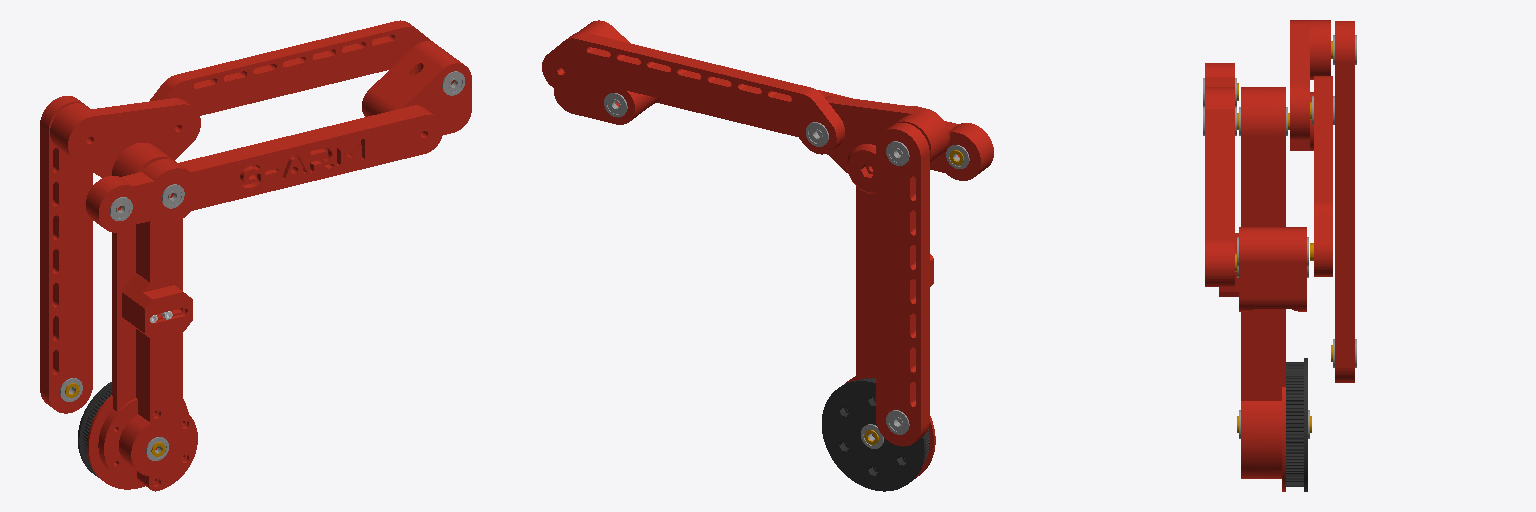
The robot description file, URDF, robot "g_arm":
<?xml version="1.0" ?>
<!-- =================================================================================== -->
<!-- |    This document was autogenerated by xacro from robot.urdf.xacro               | -->
<!-- |    EDITING THIS FILE BY HAND IS NOT RECOMMENDED                                 | -->
<!-- =================================================================================== -->
<robot name="g_arm">
  <!-- Definition of the base link -->
  <link name="base_link">
    <visual>
      <origin rpy="0.0 0.0 0.0" xyz="0.0 0.0 0.0"/>
      <geometry>
        <mesh filename="package://g_arm_description/meshes/base.dae"/>
      </geometry>
    </visual>
    <collision>
      <origin rpy="0.0 0.0 0.0" xyz="0.0 0.0 0.035"/>
      <geometry>
        <cylinder length="0.07" radius="0.07"/>
      </geometry>
      <material name="blue">
        <color rgba="0.0 0.0 1.0 1.0"/>
      </material>
    </collision>
  </link>
  <!-- Definition of the motors base link -->
  <link name="motors_link">
    <visual>
      <origin rpy="0.0 0.0 0" xyz="0.0 0.0 0.0"/>
      <geometry>
        <mesh filename="package://g_arm_description/meshes/motors.dae"/>
      </geometry>
    </visual>
    <collision>
      <origin rpy="0.0 0.0 0.0" xyz="0 0 0"/>
      <geometry>
        <mesh filename="package://g_arm_description/meshes/motors.stl" scale="0.001 0.001 0.001"/>
      </geometry>
      <material name="blue">
        <color rgba="0.0 0.0 1.0 1.0"/>
      </material>
    </collision>
  </link>
  <!-- Definition of the arm link 1 -->
  <link name="link1">
    <visual>
      <origin rpy="0.0 0.0 0.0" xyz="0.0 0.0 0.0"/>
      <geometry>
        <mesh filename="package://g_arm_description/meshes/link1.dae"/>
      </geometry>
    </visual>
    <collision>
      <origin rpy="0.0 0.0 0.0" xyz="0.0 0.0 0.0"/>
      <geometry>
        <mesh filename="package://g_arm_description/meshes/link1.stl" scale="0.001 0.001 0.001"/>
      </geometry>
      <material name="blue">
        <color rgba="0.0 0.0 1.0 1.0"/>
      </material>
    </collision>
  </link>
  <link name="link_j3_lever">
    <visual>
      <origin rpy="0.0 0.0 0.0" xyz="0.0 0.0 0.0"/>
      <geometry>
        <mesh filename="package://g_arm_description/meshes/link_j3_lever.dae"/>
      </geometry>
    </visual>
    <collision>
      <origin rpy="0.0 0.0 0.0" xyz="0.0 0.0 0.0"/>
      <geometry>
        <mesh filename="package://g_arm_description/meshes/link_j3_lever.stl" scale="0.001 0.001 0.001"/>
      </geometry>
      <material name="blue">
        <color rgba="0.0 0.0 1.0 1.0"/>
      </material>
    </collision>
  </link>
  <link name="link1_to_link2_intermediate">

  </link>
  <!-- Definition of the arm link 2 -->
  <link name="link2">
    <visual>
      <origin rpy="0.0 0.0 0.0" xyz="0.0 0.0 0.0"/>
      <geometry>
        <mesh filename="package://g_arm_description/meshes/link2.dae"/>
      </geometry>
    </visual>
    <collision>
      <origin rpy="0.0 0.0 0.0" xyz="0.0 0.0 0.0"/>
      <geometry>
        <mesh filename="package://g_arm_description/meshes/link2.stl" scale="0.001 0.001 0.001"/>
      </geometry>
      <material name="blue">
        <color rgba="0.0 0.0 1.0 1.0"/>
      </material>
    </collision>
  </link>
  <!-- Definition of the arm end effector -->
  <link name="end_effector">
    <visual>
      <origin rpy="0.0 0.0 0.0" xyz="0.0 0.0 0.0"/>
      <geometry>
        <mesh filename="package://g_arm_description/meshes/end.dae"/>
      </geometry>
    </visual>
    <collision>
      <origin rpy="0.0 0.0 0.0" xyz="0.0 0.0 0.0"/>
      <geometry>
        <mesh filename="package://g_arm_description/meshes/end.stl" scale="0.001 0.001 0.001"/>
      </geometry>
      <material name="blue">
        <color rgba="0.0 0.0 1.0 1.0"/>
      </material>
    </collision>
  </link>
  <joint name="joint1" type="revolute">
    <origin rpy="0.0 0.0 0.0" xyz="0.0 0.0 0.076"/>
    <parent link="base_link"/>
    <child link="motors_link"/>
    <axis xyz="0.0 0.0 1.0"/>
    <limit effort="200.0" lower="-1.5707" upper="1.5707" velocity="200.0"/>
  </joint>
  <joint name="joint2" type="revolute">
    <origin rpy="1.5708 0 0" xyz="0.035 0.0331 0.055"/>
    <parent link="motors_link"/>
    <child link="link1"/>
    <axis xyz="0.0 0.0 1.0"/>
    <limit effort="200.0" lower="-1.5707" upper="1.5707" velocity="200.0"/>
  </joint>
  <joint name="joint3" type="revolute">
    <origin rpy="1.5708 0.0 0.0" xyz="0.035 -0.0341 0.055"/>
    <parent link="motors_link"/>
    <child link="link_j3_lever"/>
    <axis xyz="0.0 0.0 1.0"/>
    <limit effort="200.0" lower="-1.5707" upper="0.1" velocity="200.0"/>
  </joint>
  <joint name="joint_link1_link2_intermediate" type="revolute">
    <origin rpy="0.0 0.0 1.5708" xyz="0.0 0.17 0.0362"/>
    <parent link="link1"/>
    <child link="link1_to_link2_intermediate"/>
    <axis xyz="0.0 0.0 1.0"/>
    <limit effort="200.0" lower="-1.5707" upper="1.5707" velocity="200.0"/>
    <mimic joint="joint3" multiplier="1.0"/>
  </joint>
  <joint name="joint_link1_link2" type="revolute">
    <origin rpy="0 0 0.0" xyz="0.0 0.0 0.0"/>
    <parent link="link1_to_link2_intermediate"/>
    <child link="link2"/>
    <axis xyz="0.0 0.0 1.0"/>
    <limit effort="200.0" lower="-1.5707" upper="1.5707" velocity="200.0"/>
    <mimic joint="joint2" multiplier="-1.0"/>
  </joint>
  <joint name="passive_joint4_mimic" type="revolute">
    <origin rpy="0.0 0.0 -1.5708" xyz="0.0 -0.17 0.0"/>
    <parent link="link2"/>
    <child link="end_effector"/>
    <axis xyz="0.0 0.0 1.0"/>
    <limit effort="200.0" lower="-1.5707" upper="1.5707" velocity="200.0"/>
    <mimic joint="joint3" multiplier="-1.0"/>
  </joint>
  <!--Rest of the palalegrams: This is not neccesary for the IK but its important for appearance and collision avoidance-->
  <link name="link_j3_lever_to_rod_intermediate">

  </link>
  <link name="link_j3_rod">
    <visual>
      <origin rpy="0.0 0.0 0.0" xyz="0.0 0.0 0.0"/>
      <geometry>
        <mesh filename="package://g_arm_description/meshes/link_j3_rod.dae"/>
      </geometry>
    </visual>
    <collision>
      <origin rpy="0.0 0.0 0.0" xyz="0.0 0.0 0.0"/>
      <geometry>
        <mesh filename="package://g_arm_description/meshes/link_j3_rod.stl" scale="0.001 0.001 0.001"/>
      </geometry>
      <material name="blue">
        <color rgba="0.0 0.0 1.0 1.0"/>
      </material>
    </collision>
  </link>
  <joint name="passive_joint_j3_lever_to_rod_intermediate" type="revolute">
    <origin rpy="0.0 0.0 0.0" xyz="-0.035 0.0 -0.030"/>
    <parent link="link_j3_lever"/>
    <child link="link_j3_lever_to_rod_intermediate"/>
    <axis xyz="0.0 0.0 1.0"/>
    <limit effort="200.0" lower="-1.5707" upper="1.5707" velocity="200.0"/>
    <mimic joint="joint2" multiplier="1.0"/>
  </joint>
  <joint name="passive_joint_j3_lever_to_rod" type="revolute">
    <origin rpy="0.0 0.0 0.0" xyz="0.0 0.0 0.0"/>
    <parent link="link_j3_lever_to_rod_intermediate"/>
    <child link="link_j3_rod"/>
    <axis xyz="0.0 0.0 1.0"/>
    <limit effort="200.0" lower="-1.5707" upper="1.5707" velocity="200.0"/>
    <mimic joint="joint3" multiplier="-1.0"/>
  </joint>
  <link name="elbow_link">
    <visual>
      <origin rpy="0.0 0.0 0.0" xyz="0.0 0.0 0.0"/>
      <geometry>
        <mesh filename="package://g_arm_description/meshes/elbow.dae"/>
      </geometry>
    </visual>
    <collision>
      <origin rpy="0.0 0.0 0.0" xyz="0.0 0.0 0.0"/>
      <geometry>
        <mesh filename="package://g_arm_description/meshes/elbow.stl" scale="0.001 0.001 0.001"/>
      </geometry>
      <material name="blue">
        <color rgba="0.0 0.0 1.0 1.0"/>
      </material>
    </collision>
  </link>
  <joint name="passive_elbow_joint" type="revolute">
    <origin rpy="0.0 0.0 0.0" xyz="0.0 0.17 0.009"/>
    <parent link="link1"/>
    <child link="elbow_link"/>
    <axis xyz="0.0 0.0 1.0"/>
    <limit effort="200.0" lower="-1.5707" upper="1.5707" velocity="200.0"/>
    <mimic joint="joint2" multiplier="-1.0"/>
  </joint>
  <link name="parallel_end_link1">
    <visual>
      <origin rpy="0.0 0.0 0.0" xyz="0.0 0.0 0.0"/>
      <geometry>
        <mesh filename="package://g_arm_description/meshes/parallel_end_link1.dae"/>
      </geometry>
    </visual>
    <collision>
      <origin rpy="0.0 0.0 0.0" xyz="0.0 0.0 0.0"/>
      <geometry>
        <mesh filename="package://g_arm_description/meshes/parallel_end_link1.stl" scale="0.001 0.001 0.001"/>
      </geometry>
      <material name="blue">
        <color rgba="0.0 0.0 1.0 1.0"/>
      </material>
    </collision>
  </link>
  <joint name="passive_parallel_link1_joint" type="revolute">
    <origin rpy="1.5707 0.0 0.0" xyz="0.004474 0.058 0.080712"/>
    <parent link="motors_link"/>
    <child link="parallel_end_link1"/>
    <axis xyz="0.0 0.0 1.0"/>
    <limit effort="200.0" lower="-1.5707" upper="1.5707" velocity="200.0"/>
    <mimic joint="joint2" multiplier="1.0"/>
  </joint>
  <link name="parallel_end_link2">
    <visual>
      <origin rpy="0.0 0.0 0.0" xyz="0.0 0.0 0.0"/>
      <geometry>
        <mesh filename="package://g_arm_description/meshes/parallel_end_link2.dae"/>
      </geometry>
    </visual>
    <collision>
      <origin rpy="0.0 0.0 0.0" xyz="0.0 0.0 0.0"/>
      <geometry>
        <mesh filename="package://g_arm_description/meshes/parallel_end_link2.stl" scale="0.001 0.001 0.001"/>
      </geometry>
      <material name="blue">
        <color rgba="0.0 0.0 1.0 1.0"/>
      </material>
    </collision>
  </link>
  <joint name="passive_parallel_link2_intermediate" type="revolute">
    <origin rpy="0.0 0.0 1.5708" xyz="0.029054 0.019516 -0.011"/>
    <parent link="elbow_link"/>
    <child link="parallel_end_link2"/>
    <axis xyz="0.0 0.0 1.0"/>
    <limit effort="200.0" lower="0.0" upper="0.2" velocity="200.0"/>
    <mimic joint="joint3" multiplier="1.0"/>
  </joint>
</robot>

--- What the picture shows (computed from the rendered views, not written in the file) ---
Views: 3 orthographic renders of the robot side by side, from view 1: azimuth 30°, elevation 25°; view 2: azimuth 150°, elevation 25°; view 3: azimuth 270°, elevation 25°.
Model g_arm with 12 links and 11 joints (11 revolute), rooted at base_link, posed all joints at 0.
Visible links, largest first — view 1: link1, link2, parallel_end_link1, parallel_end_link2, elbow_link, end_effector; view 2: parallel_end_link1, parallel_end_link2, link1, elbow_link, end_effector, link2; view 3: link1, parallel_end_link1, link2, end_effector, elbow_link, parallel_end_link2.
Link boxes in pixels (x1=…): link1: x1=78, y1=143, x2=197, y2=491; link2: x1=86, y1=105, x2=442, y2=232; parallel_end_link1: x1=40, y1=96, x2=92, y2=413; parallel_end_link2: x1=150, y1=20, x2=433, y2=115; elbow_link: x1=50, y1=98, x2=200, y2=177; end_effector: x1=362, y1=41, x2=471, y2=134; parallel_end_link1: x1=876, y1=123, x2=929, y2=446; parallel_end_link2: x1=542, y1=32, x2=844, y2=154; link1: x1=822, y1=186, x2=935, y2=491; elbow_link: x1=825, y1=96, x2=949, y2=193; end_effector: x1=554, y1=20, x2=659, y2=124; link2: x1=656, y1=90, x2=993, y2=180; link1: x1=1219, y1=87, x2=1311, y2=491; parallel_end_link1: x1=1331, y1=21, x2=1356, y2=382; link2: x1=1203, y1=63, x2=1238, y2=286; end_effector: x1=1237, y1=227, x2=1308, y2=311; elbow_link: x1=1288, y1=20, x2=1332, y2=150; parallel_end_link2: x1=1310, y1=76, x2=1334, y2=276.
Size in the robot's own frame: 0.2616 by 0.0781 by 0.2466 metres.
6 mesh visuals loaded from 10 distinct referenced files (6 Collada DAE); not drawn: 4 (reference not matched to a file when rendering).
